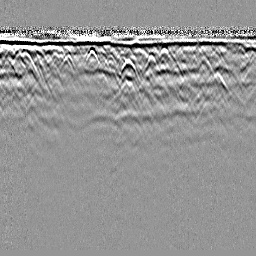cavity: (118, 57, 139, 79)
